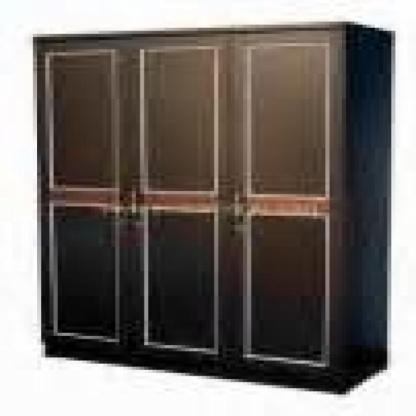Closet: (25, 19, 399, 400)
